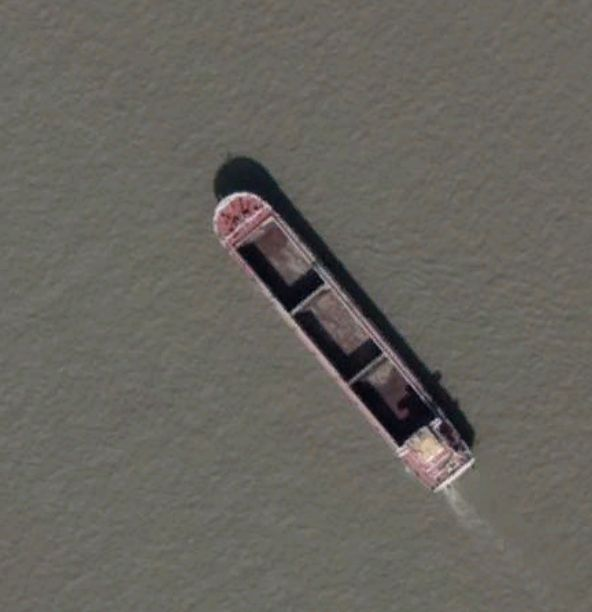boat: (209, 183, 476, 495)
